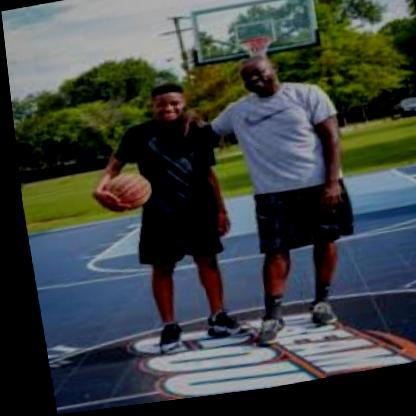basketball: (97, 172, 151, 214)
rim: (235, 41, 272, 54)
